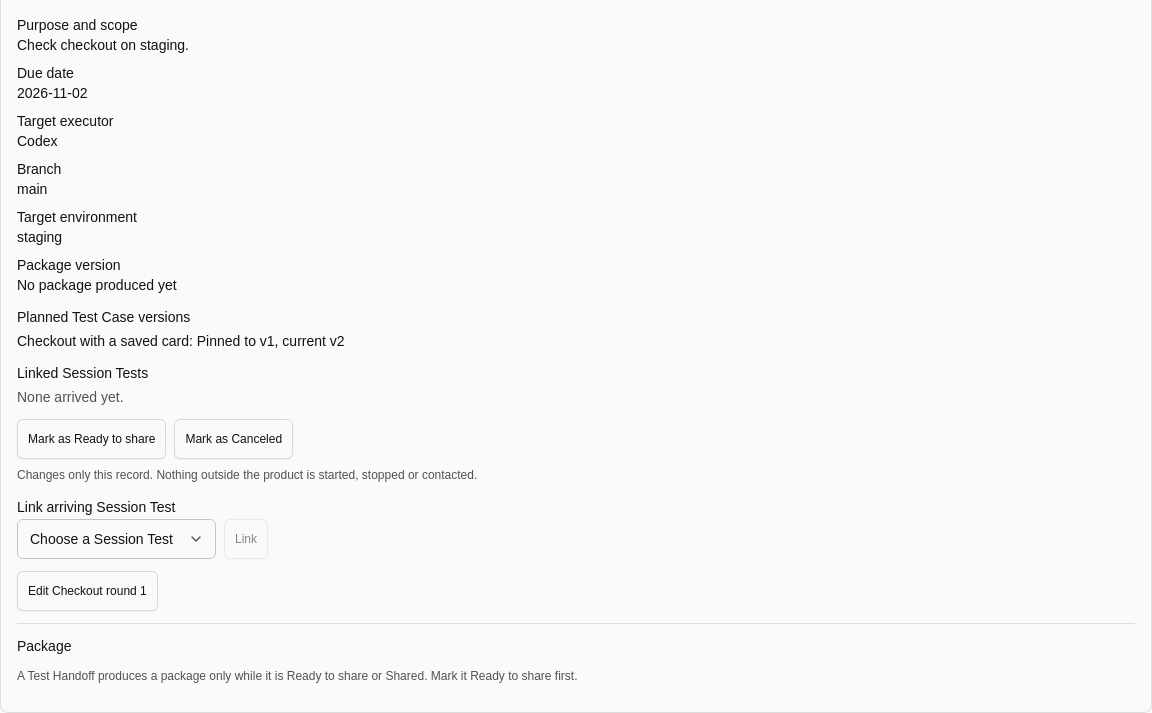
shows a refused move without changing the displayed state
The width and height of the screenshot is (1152, 713).
(page scrolled)
Click the button "Mark as Ready to share" at (92, 439), box [17, 419, 166, 459]
(page scrolled)
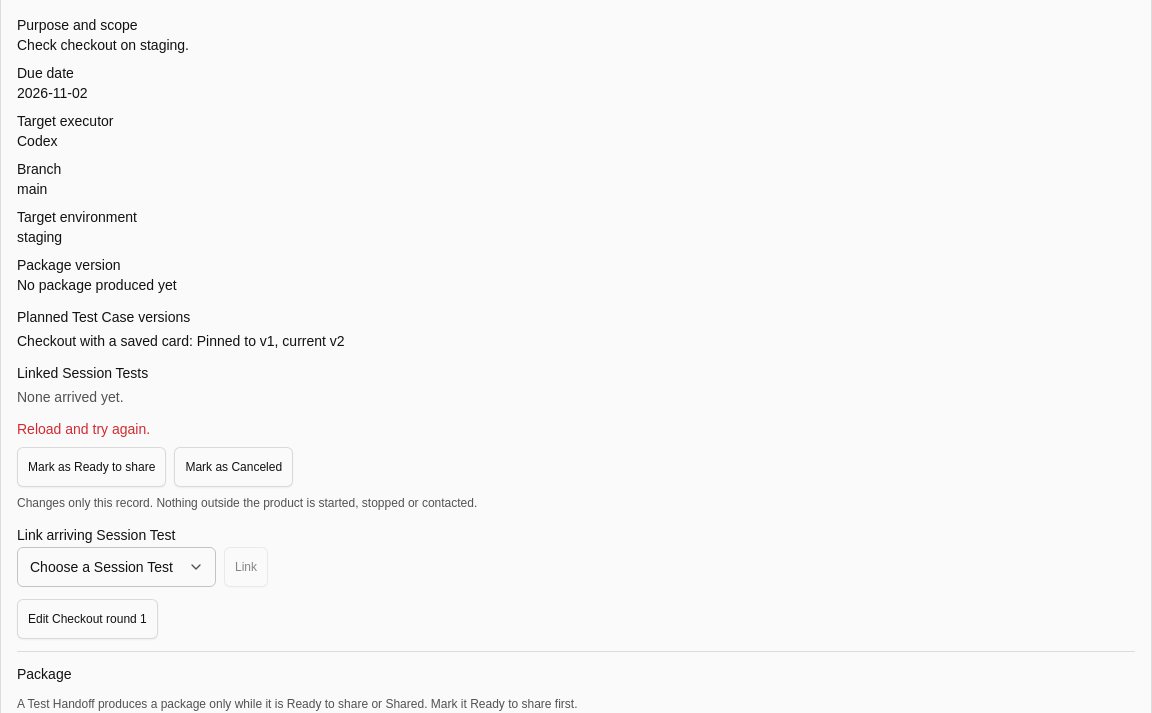
Check: the message "Reload and try again." is shown, box [17, 421, 150, 437]
